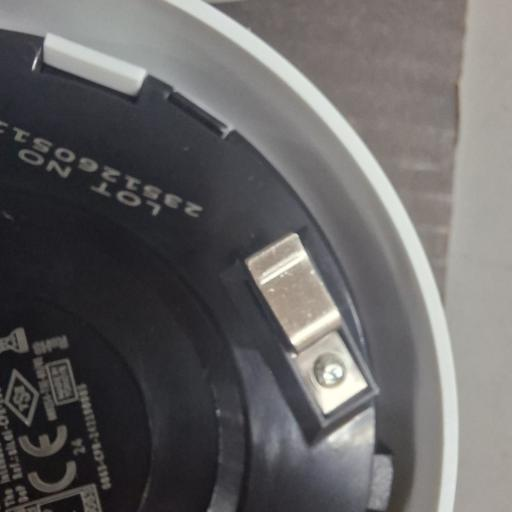yaysiz: (236, 224, 379, 438)
